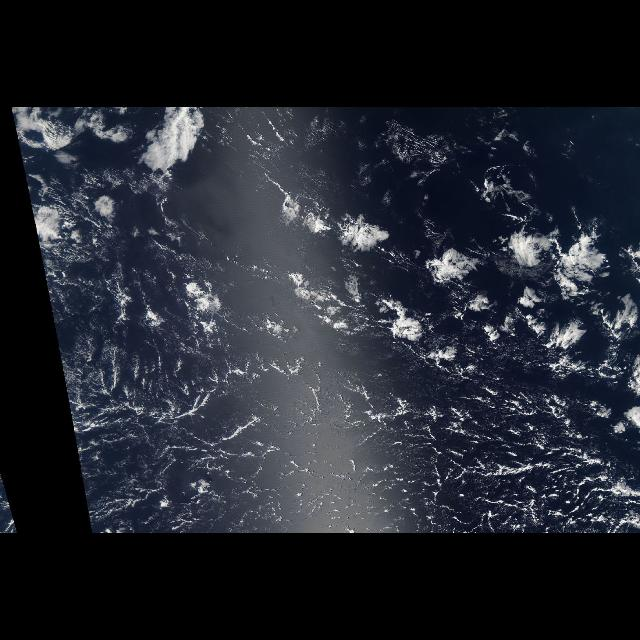Flower: (275, 190, 639, 394)
Gravel: (65, 348, 640, 534)
Sugar: (287, 205, 639, 382), (218, 452, 638, 530)
